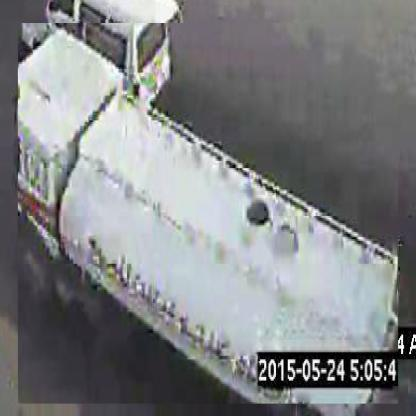truck: (19, 24, 400, 406)
